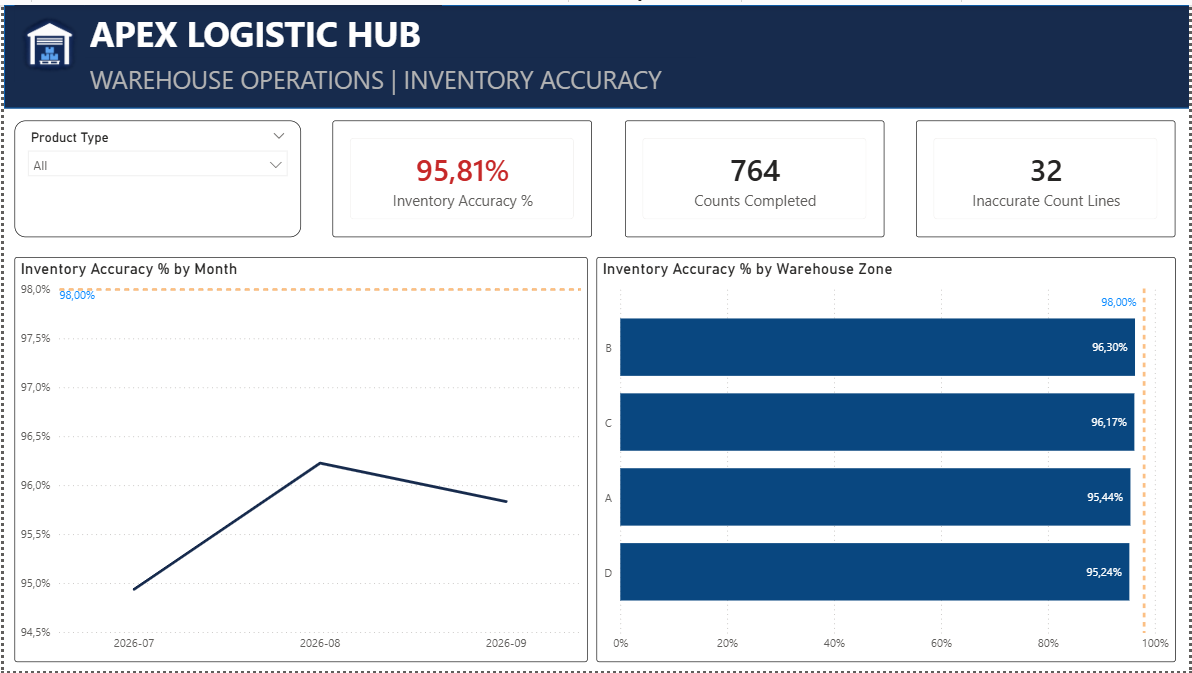

The dashboard page shown, as its layout file describes it:
{"tool":"powerbi","page":{"name":"Inventory Accuracy","canvas":[1280,720],"ordinal":4},"visuals":[{"type":"shape","box":[0,0,1280.8,111.7],"z":0},{"type":"image","box":[11.3,0,76.1,82.6],"z":1000},{"type":"textbox","box":[87.4,0,385.4,69.6],"z":2000},{"type":"textbox","box":[87.4,56.7,659,45.3],"z":3000},{"type":"slicer","fields":{"Values":["dw dim_product.product_type"]},"box":[11.3,124.7,309.3,126.3],"z":4000},{"type":"cardVisual","fields":{"Data":["_Measures.Inventory Accuracy %"]},"box":[355.2,124.7,280.1,126.3],"z":5000},{"type":"cardVisual","fields":{"Data":["_Measures.Counts Completed"]},"box":[669.8,124.7,280.1,126.3],"z":6000},{"type":"cardVisual","fields":{"Data":["_Measures.Inaccurate Count Lines"]},"box":[984.5,124.7,280.1,126.3],"z":7000},{"type":"lineChart","title":"Inventory Accuracy % by Month","fields":{"Category":["dw dim_date.year_month"],"Y":["_Measures.Inventory Accuracy %"]},"box":[11.3,272,618.5,437.2],"z":8000},{"type":"clusteredBarChart","title":"Inventory Accuracy % by Warehouse Zone","fields":{"Category":["dw dim_location.zone"],"Y":["_Measures.Inventory Accuracy %"]},"box":[639.6,272,625,437.2],"z":9000}]}

Visuals, with their boxes in screenshot pixels (x1, y1, x2, y2), scaled from the page's 1280x720 canvas onto the 1192x673 screenshot:
shape: 0 0 1191 104
image: 11 0 81 77
textbox: 81 0 440 65
textbox: 81 53 695 95
slicer - dw dim_product.product_type: 11 117 299 235
cardVisual - _Measures.Inventory Accuracy %: 331 117 592 235
cardVisual - _Measures.Counts Completed: 624 117 885 235
cardVisual - _Measures.Inaccurate Count Lines: 917 117 1178 235
"Inventory Accuracy % by Month" lineChart: 11 254 587 663
"Inventory Accuracy % by Warehouse Zone" clusteredBarChart: 596 254 1178 663
